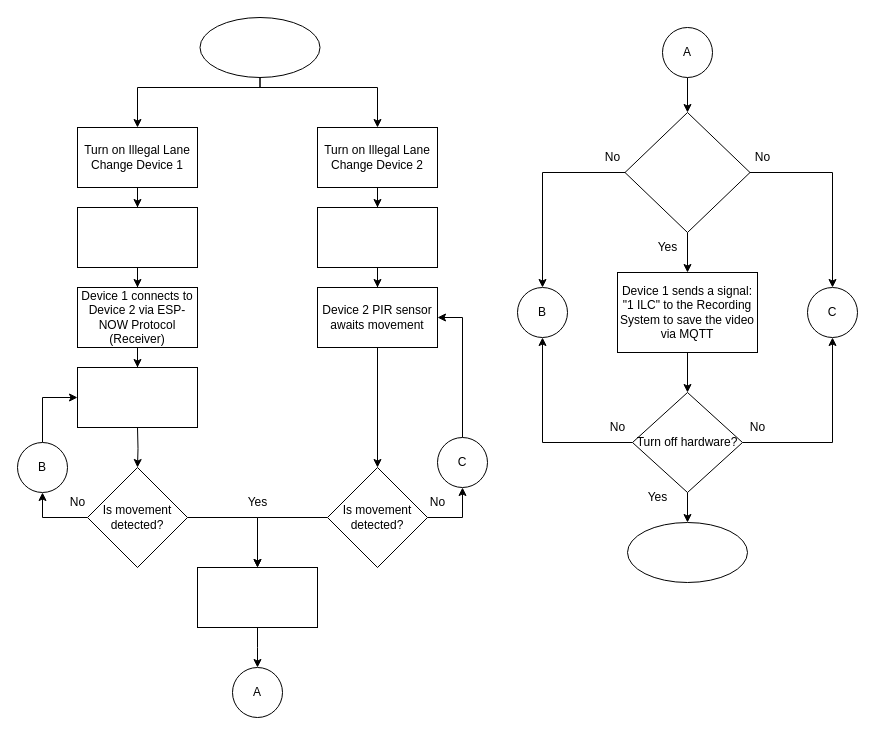
This 875x735 diagram has some shape labels left out. Here are the shapes that lost their labels. From the top down, the centre of each, then its label:
point 259,47: Start
point 687,172: Was movement detected at the same time?
point 137,237: Device 1 connects to WiFi network and subscribes to "ILC" MQTT topic
point 377,237: Device 2 connects to Device 1 via ESP-NOW (Sender)
point 137,397: Device 1 PIR sensor awaits movement
point 687,552: End
point 257,597: Device 1 determines if both sensors were triggered at the same time
